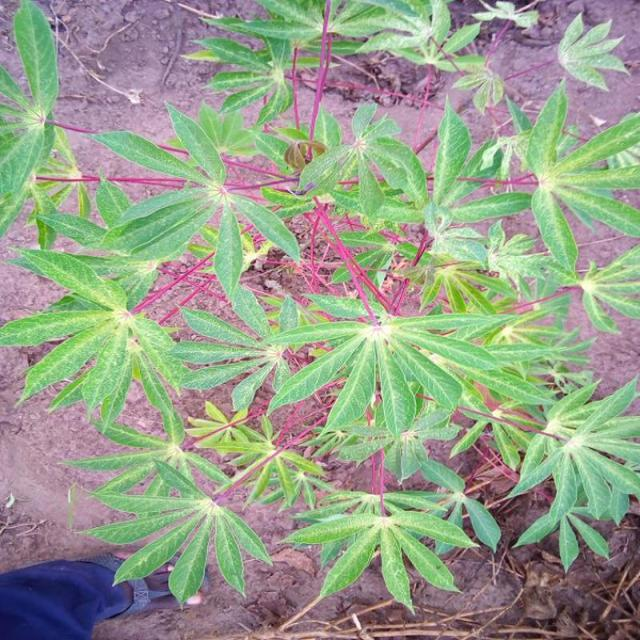cassava leaf: (0, 2, 638, 616)
